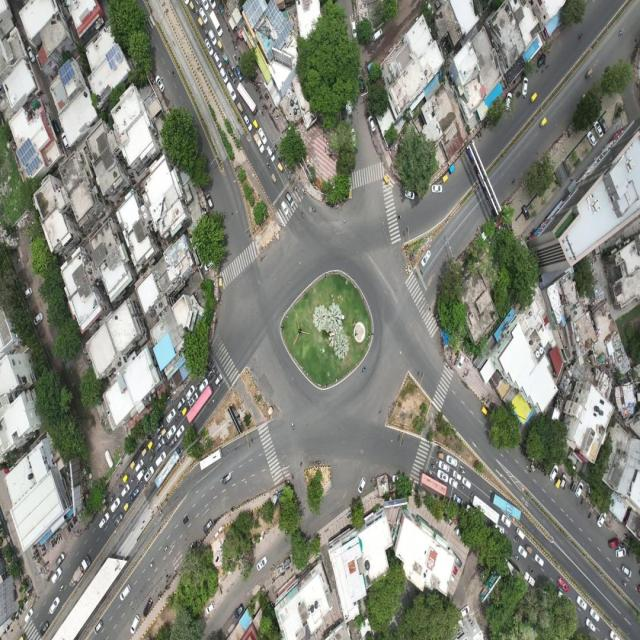3W: (234, 98, 244, 115), (197, 14, 206, 32), (122, 498, 132, 514), (528, 90, 538, 106), (448, 159, 457, 176), (584, 66, 594, 81), (382, 172, 391, 188), (129, 456, 139, 470), (277, 160, 286, 175), (440, 170, 449, 185), (538, 118, 549, 130), (523, 543, 534, 555), (481, 406, 494, 416), (123, 470, 131, 486), (217, 38, 225, 54), (181, 515, 191, 527), (188, 0, 196, 15), (554, 476, 562, 491), (140, 445, 149, 458), (181, 404, 190, 417), (570, 479, 578, 493), (435, 450, 446, 460), (252, 117, 259, 130), (271, 174, 278, 187), (148, 438, 155, 450), (161, 424, 168, 436), (18, 631, 27, 640), (148, 454, 155, 464)
Bus: (489, 482, 525, 524), (152, 445, 183, 492), (184, 382, 215, 425), (468, 489, 501, 528), (415, 467, 450, 501), (235, 81, 260, 116), (198, 445, 223, 472)
Cars: (154, 450, 170, 473), (282, 188, 298, 210), (356, 471, 368, 499), (556, 572, 570, 595), (119, 580, 132, 604), (575, 591, 589, 613), (445, 447, 459, 469), (50, 567, 66, 586), (198, 375, 210, 400), (401, 184, 416, 204), (130, 610, 141, 636), (153, 72, 166, 94), (48, 596, 62, 616), (232, 602, 246, 622), (593, 117, 605, 140), (598, 111, 610, 134), (243, 109, 254, 134), (98, 510, 111, 531), (199, 517, 215, 534), (520, 199, 531, 223), (520, 71, 530, 97), (279, 197, 290, 220), (420, 248, 432, 269), (22, 606, 35, 625), (584, 615, 597, 634), (504, 88, 513, 115), (226, 81, 237, 103), (204, 191, 216, 211), (207, 28, 219, 48), (349, 126, 359, 150), (37, 618, 50, 636), (109, 496, 122, 514), (143, 466, 156, 484), (588, 606, 601, 624), (586, 129, 597, 150), (267, 140, 276, 165), (357, 71, 366, 96), (203, 38, 214, 58), (234, 63, 245, 83), (549, 462, 559, 484), (596, 510, 607, 530), (187, 390, 199, 408), (536, 51, 548, 69), (143, 597, 154, 616), (198, 7, 209, 26), (113, 512, 126, 528), (154, 436, 167, 452), (451, 492, 464, 508), (255, 555, 268, 571), (92, 619, 104, 636), (220, 66, 230, 86), (228, 66, 238, 86), (258, 124, 268, 144), (534, 550, 545, 568), (204, 601, 217, 616), (129, 486, 141, 502), (175, 395, 187, 411), (350, 18, 358, 42), (213, 51, 223, 70), (368, 113, 377, 134), (166, 423, 177, 440), (430, 182, 443, 196), (436, 470, 449, 484), (166, 407, 178, 422), (575, 480, 584, 500), (615, 546, 627, 561), (500, 514, 512, 529), (55, 550, 66, 566), (214, 370, 225, 386), (621, 562, 632, 578), (372, 30, 385, 43), (609, 627, 622, 640), (219, 474, 233, 486), (438, 459, 450, 473), (517, 544, 528, 559), (120, 482, 130, 498), (607, 538, 620, 550), (462, 476, 473, 490), (456, 353, 464, 372), (516, 526, 526, 541), (186, 384, 194, 402), (448, 478, 460, 490), (135, 458, 145, 472), (560, 470, 567, 490), (452, 469, 462, 482), (168, 436, 178, 448), (176, 427, 186, 439)
LCV: (208, 9, 224, 38), (253, 131, 265, 155), (523, 570, 536, 590), (135, 466, 147, 479), (222, 50, 230, 67)
M2W: (359, 362, 368, 376), (617, 25, 626, 38), (300, 185, 308, 197), (526, 564, 534, 574), (162, 543, 170, 553), (110, 491, 116, 504), (578, 30, 584, 42), (476, 222, 482, 234), (289, 469, 295, 481), (148, 559, 155, 569), (515, 90, 521, 101), (131, 473, 137, 483), (230, 64, 236, 74), (270, 145, 276, 155), (300, 210, 306, 220), (510, 177, 516, 187), (579, 495, 585, 505), (587, 511, 593, 521), (514, 535, 521, 543), (273, 139, 278, 150), (164, 439, 170, 448), (396, 212, 402, 221), (478, 130, 484, 139), (188, 541, 194, 550), (258, 78, 263, 88), (266, 161, 271, 171), (59, 584, 65, 592), (156, 433, 162, 441), (171, 70, 177, 78), (370, 476, 376, 484), (291, 420, 295, 432), (85, 524, 90, 533), (69, 520, 74, 529), (74, 515, 79, 524), (195, 7, 200, 16), (260, 110, 265, 119), (268, 102, 273, 111), (312, 204, 317, 213), (157, 590, 162, 599), (58, 531, 62, 542), (226, 23, 230, 34), (140, 444, 146, 451), (198, 378, 205, 384), (275, 113, 281, 120), (622, 581, 628, 588), (433, 457, 439, 464), (430, 463, 436, 470), (50, 540, 55, 548), (120, 471, 124, 481), (143, 482, 147, 492), (178, 408, 182, 418), (224, 210, 228, 220), (205, 28, 209, 38), (223, 61, 227, 71), (258, 94, 263, 102), (278, 155, 283, 163), (544, 469, 548, 479), (627, 546, 631, 556), (55, 534, 58, 546), (138, 479, 144, 485), (145, 436, 151, 442), (174, 417, 180, 423), (225, 9, 229, 18), (288, 175, 292, 184), (620, 541, 626, 547), (624, 532, 630, 538), (459, 484, 465, 490), (460, 468, 466, 474), (436, 444, 442, 450), (427, 469, 433, 475), (117, 484, 124, 489), (218, 381, 223, 388), (293, 185, 298, 192), (514, 554, 519, 561), (210, 358, 214, 366), (207, 360, 211, 368), (262, 102, 266, 110), (42, 551, 47, 557), (238, 53, 241, 63), (256, 90, 262, 95), (32, 543, 36, 550), (37, 557, 41, 564), (67, 526, 71, 533), (151, 447, 155, 454), (213, 373, 217, 380), (208, 370, 212, 377), (196, 0, 200, 7), (200, 1, 204, 8), (252, 80, 256, 87), (265, 94, 269, 101), (272, 107, 276, 114), (534, 463, 538, 470), (234, 52, 237, 61), (264, 90, 267, 99), (521, 446, 524, 455), (194, 386, 199, 391), (250, 77, 254, 83), (477, 134, 481, 140), (525, 450, 528, 458), (208, 377, 212, 382), (213, 368, 217, 373), (532, 455, 534, 465), (542, 464, 544, 474), (173, 571, 177, 576), (33, 550, 36, 556), (34, 555, 37, 561), (235, 45, 238, 51), (265, 105, 267, 114), (232, 40, 234, 44)
Truck: (68, 554, 94, 590)
